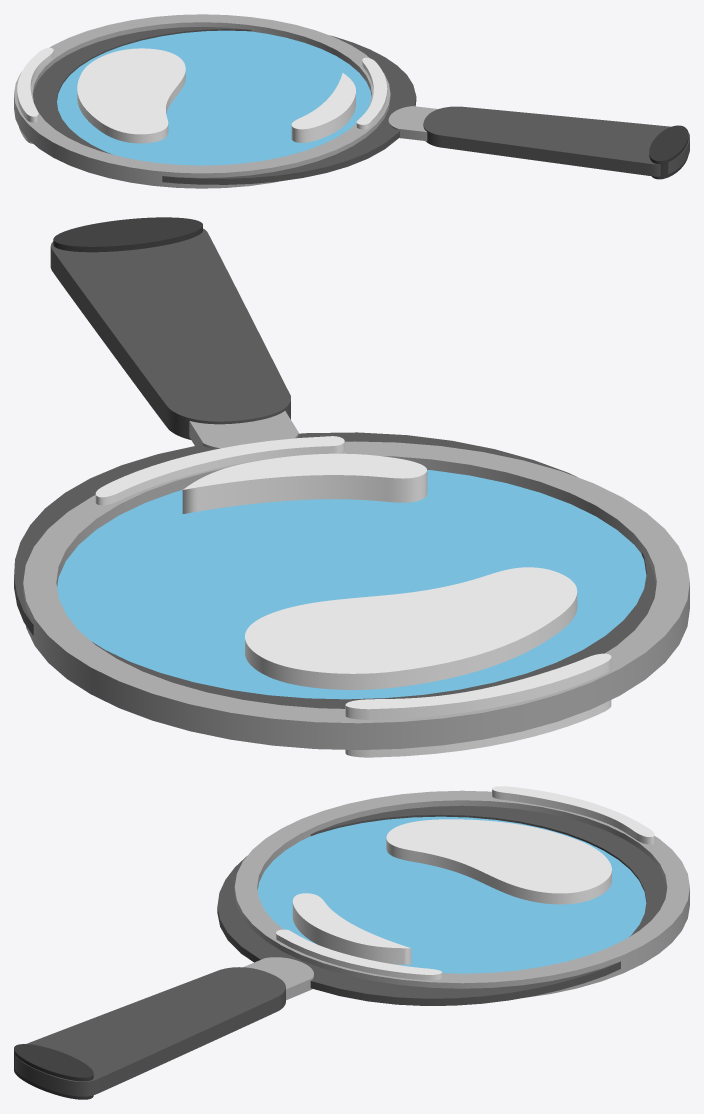
The model's file is emoji_u1f50d.glb.
3 renders of one model, top to bottom at view 1: azimuth 30°, elevation 25°; view 2: azimuth 150°, elevation 25°; view 3: azimuth 270°, elevation 25°, orthographic. The views are drawn at different scales.
Visible parts, largest first — view 1: emoji_u1f50d; view 2: emoji_u1f50d; view 3: emoji_u1f50d.
Boxes of the visible parts, <box> form: emoji_u1f50d: <box>14,14,689,188</box>; emoji_u1f50d: <box>14,217,689,757</box>; emoji_u1f50d: <box>14,786,689,1099</box>.
Size of the model in its own units: 0.0338 by 0.002 by 0.0333.
